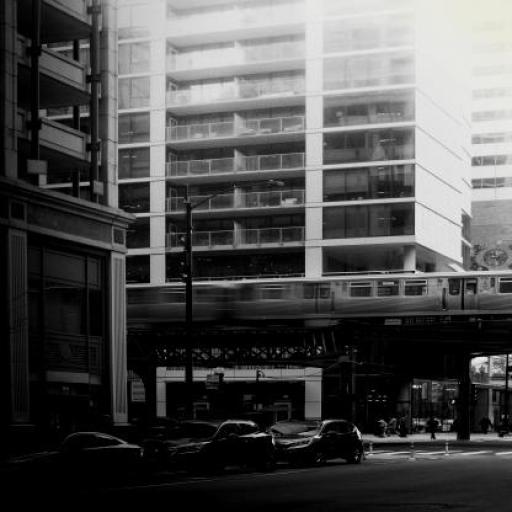street light: (184, 180, 288, 428)
